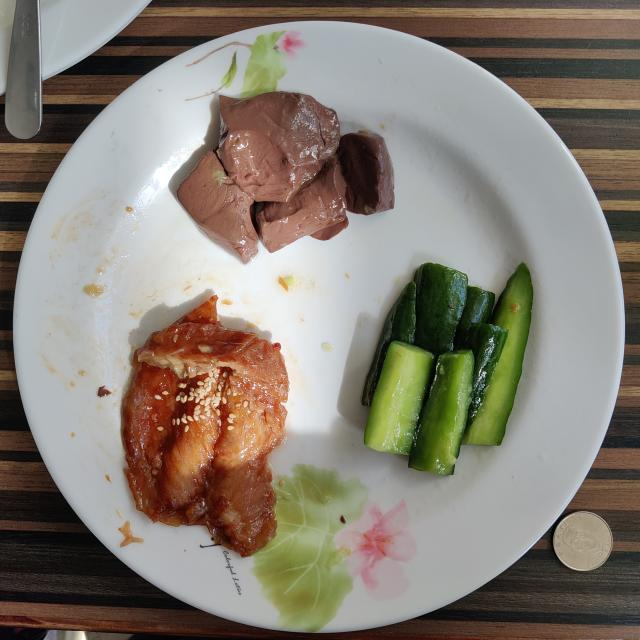Kabayaki sea bream fillet: (121, 296, 289, 556)
coin: (554, 511, 612, 571)
cucumber: (361, 262, 532, 475)
pig blood curd: (176, 91, 394, 264)
